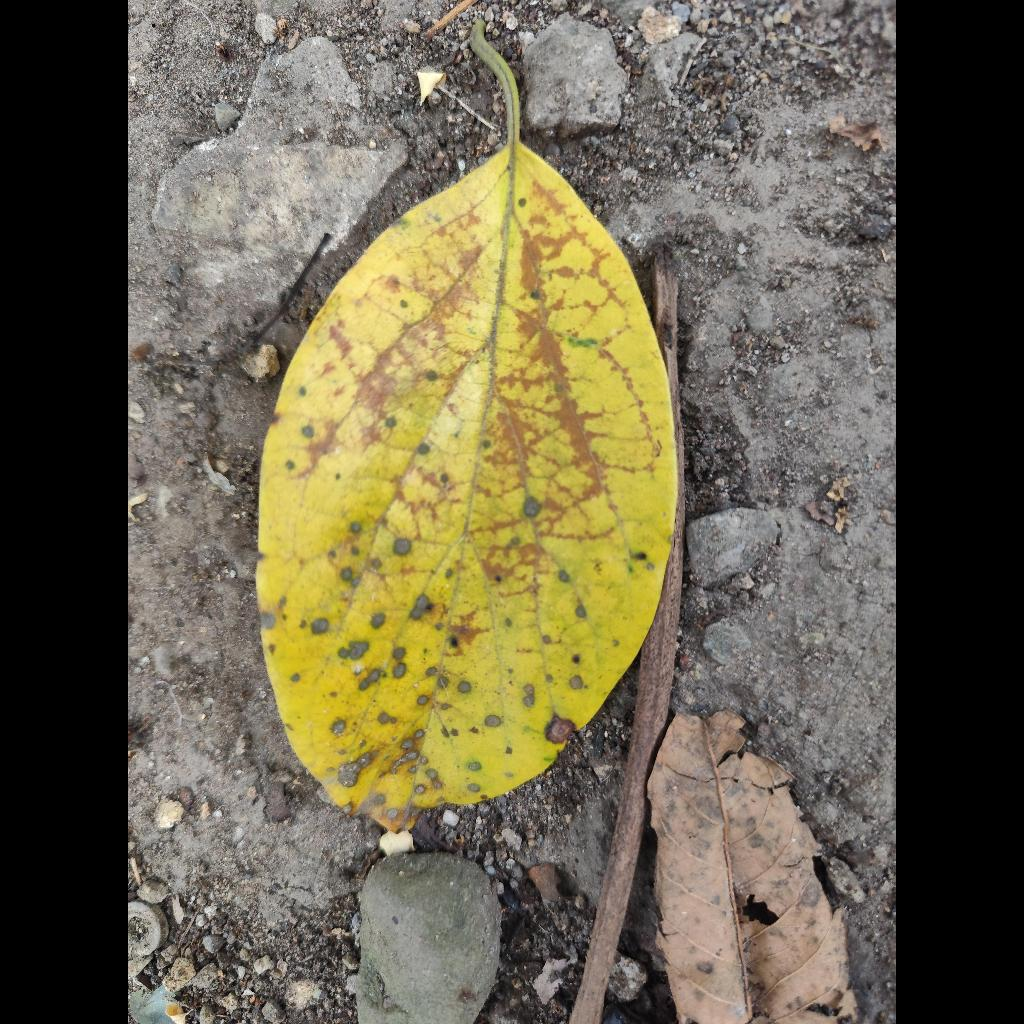deficiencia_nutricional: (257, 86, 677, 831)
